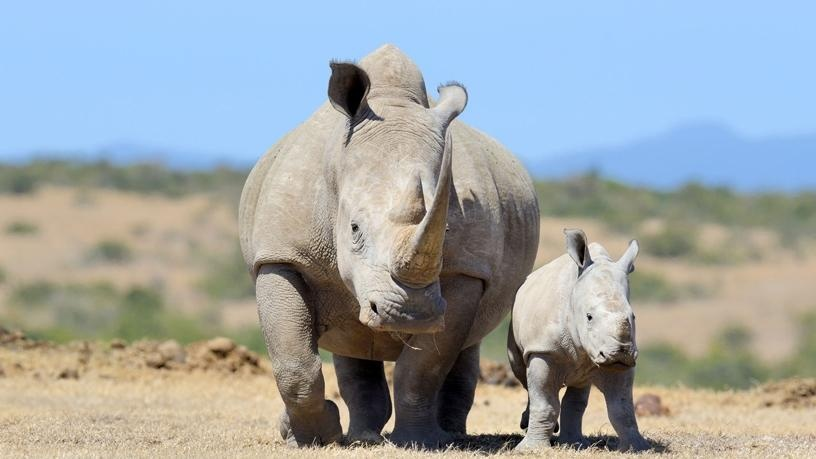rhino: (238, 40, 542, 452), (505, 224, 656, 454)
